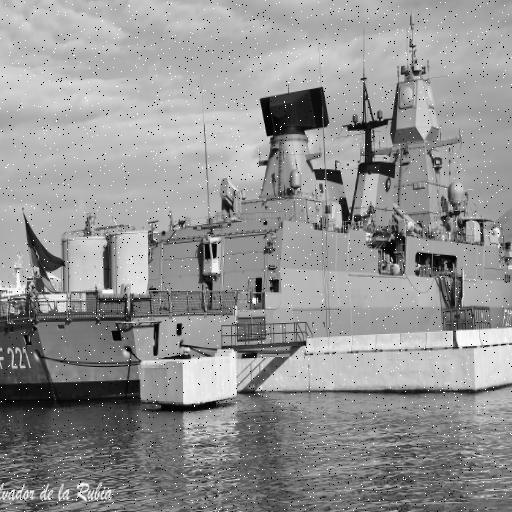Fragata: (1, 29, 512, 420)
